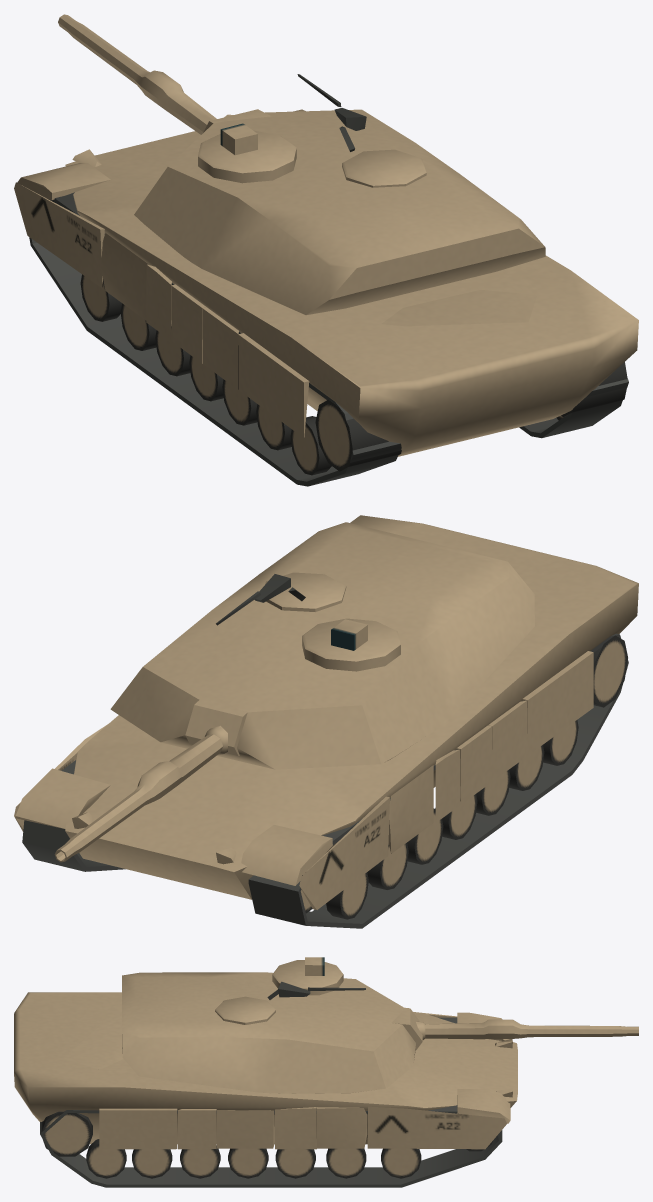
3 views of the same model, one above another, from view 1: azimuth 30°, elevation 25°; view 2: azimuth 150°, elevation 25°; view 3: azimuth 270°, elevation 25° (orthographic). The views are drawn at different scales.
Parts seen in each view (by area): view 1: Body, Turret, Gun; view 2: Body, Turret, Gun; view 3: Body, Turret, Gun.
Part boxes in pixels (<box>): Body: <box>14,109,638,486</box>; Turret: <box>134,74,545,315</box>; Gun: <box>58,14,270,134</box>; Body: <box>14,515,638,928</box>; Turret: <box>110,522,534,769</box>; Gun: <box>54,692,247,862</box>; Body: <box>14,992,517,1187</box>; Turret: <box>122,957,415,1093</box>; Gun: <box>391,1007,638,1049</box>.
Size of the model in its own units: 3.66 by 2.91 by 9.79.
1 material, 1 textured.
